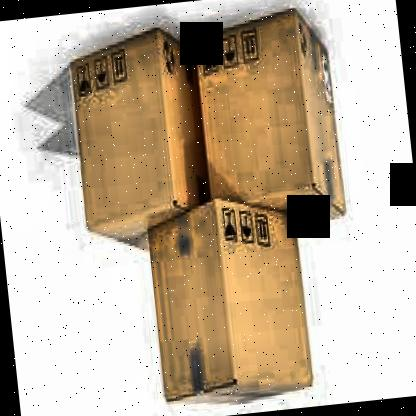no defect parcel: (120, 188, 328, 415), (188, 0, 360, 244), (39, 23, 213, 261)
